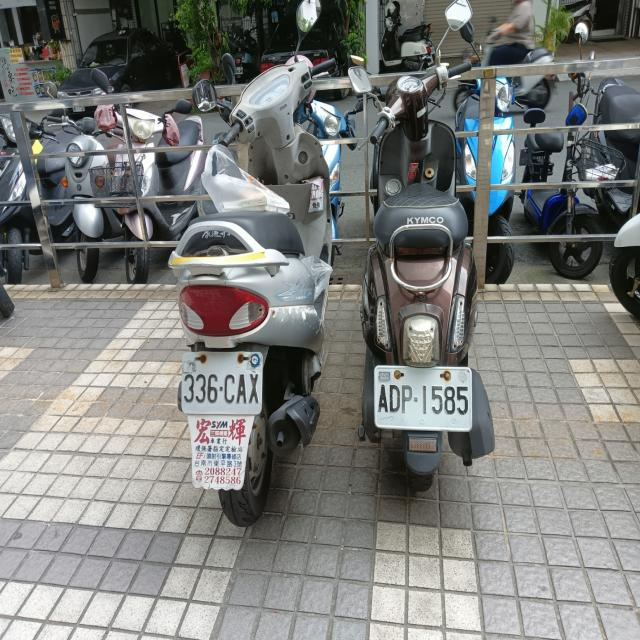license-plate: (374, 368, 474, 428), (181, 350, 262, 412)
